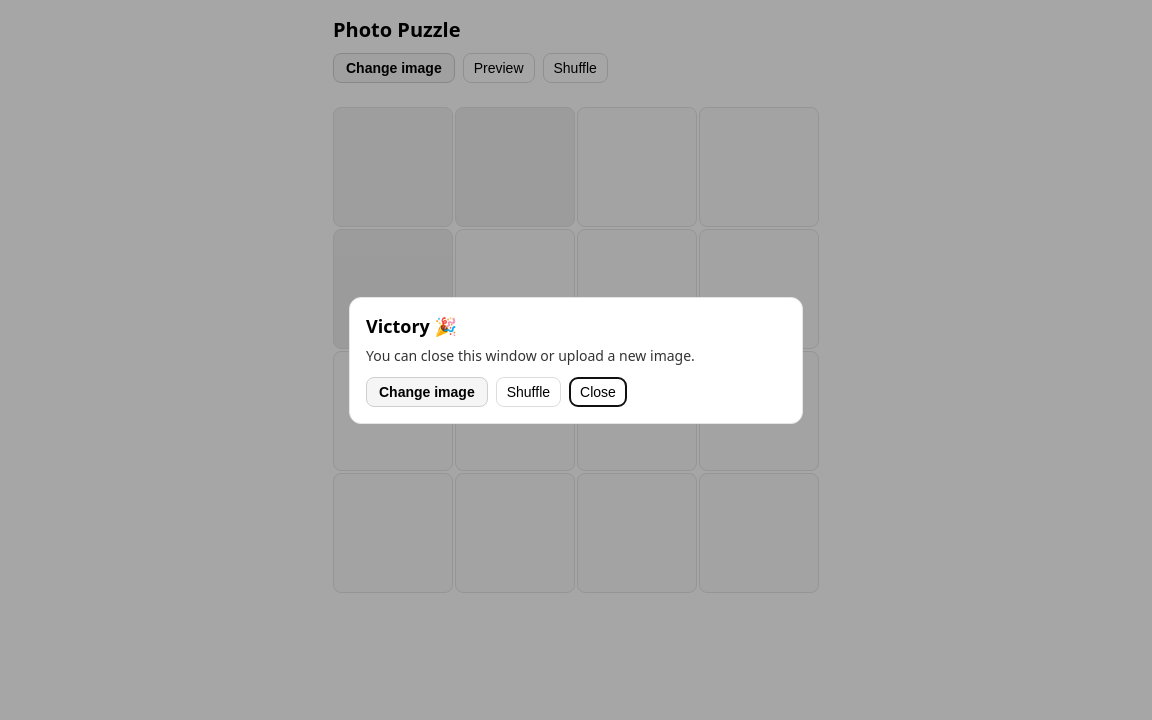
Test: GamePage › Shuffle button in victory modal closes the modal and reshuffles
Click the button "Shuffle" at (528, 392), box [496,376,561,406]
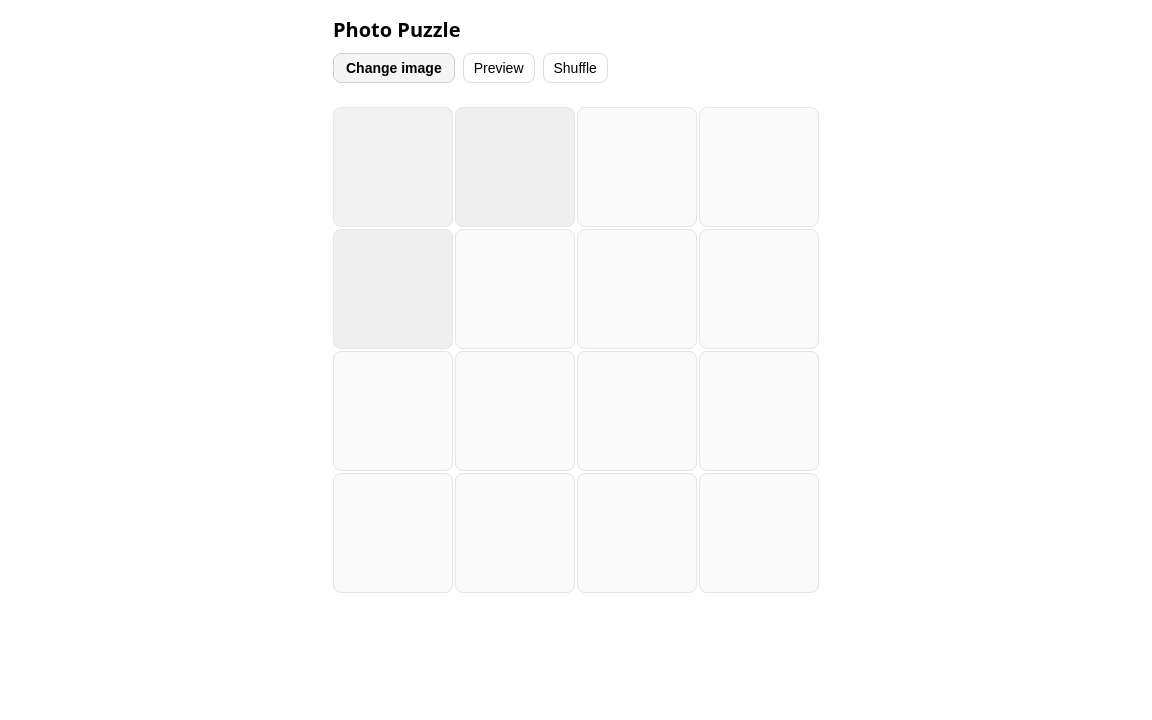
Check: the text "Victory" is gone
